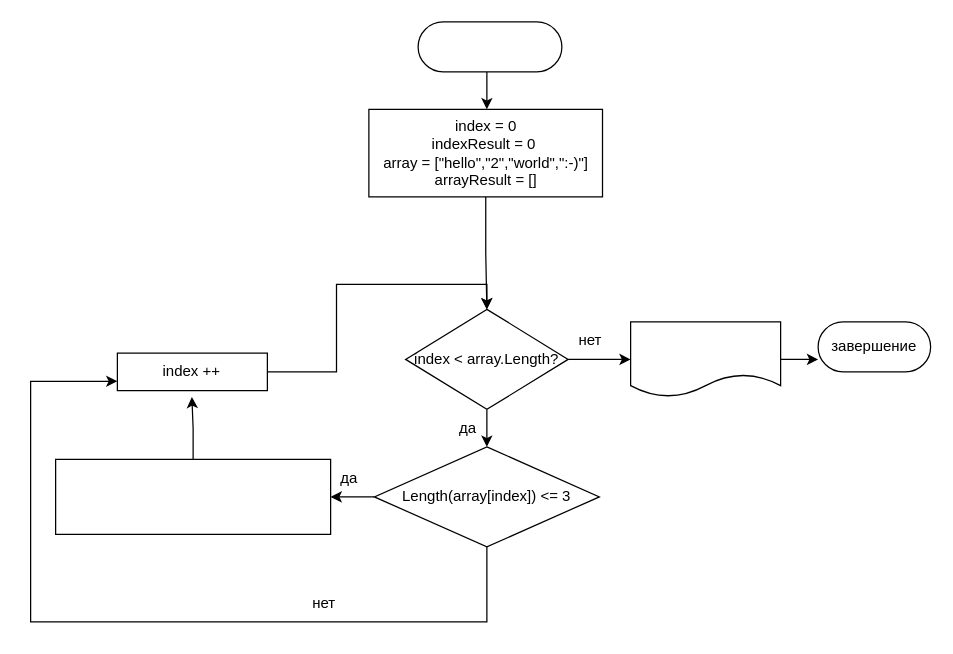
Image size: 953x654. Some labels were removed from this diagram. The shapes that lost their labels are listed below. From the top down, each one's box as (x1, y1, x2, y2) in pixels, then its label:
(417, 21, 562, 72): начало
(629, 321, 781, 397): print(arrayResult)
(54, 458, 331, 534): arrayResult[indexResult] = array[index] indexResult++
